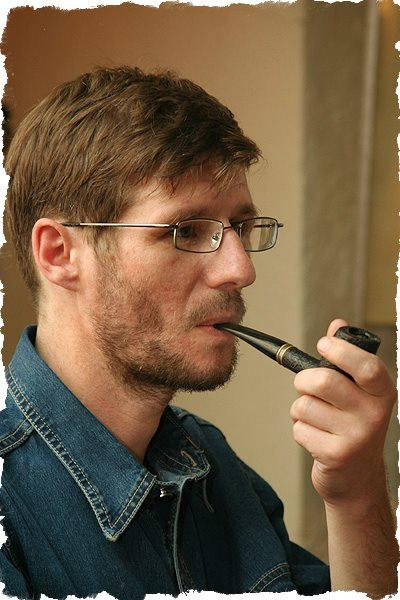trubka: (212, 323, 382, 381)
